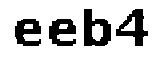4: (115, 5, 152, 50)
b: (81, 5, 113, 50)
e: (11, 17, 43, 51), (47, 16, 79, 50)
